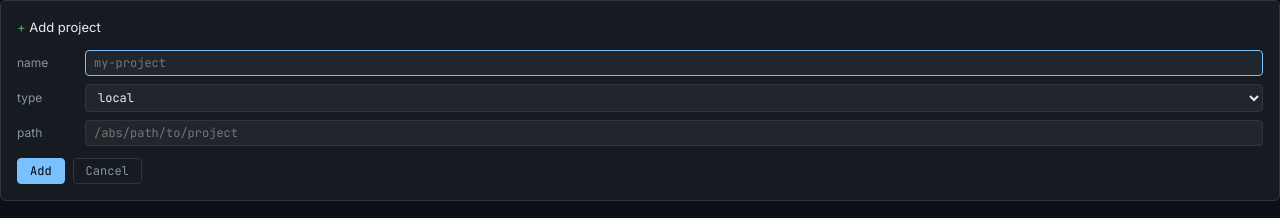
TC-024h: AdminAddForm — helper text visible when type=folder is selected
Select "folder" in the dropdown with test id "input-type": coordinates (674, 98) [85,84,1263,112]
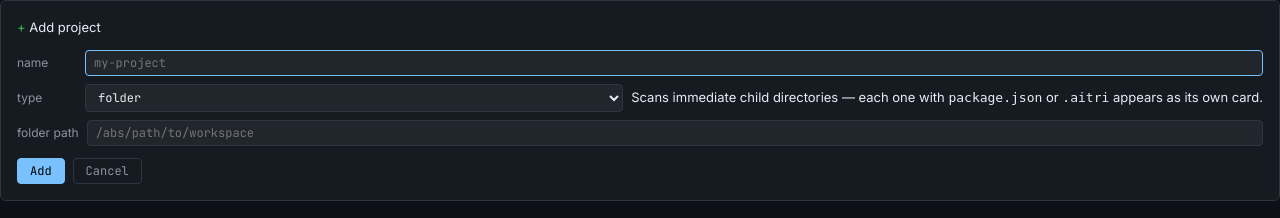
Expected: the element with test id "folder-hint" is shown, [631,87,1263,109]
